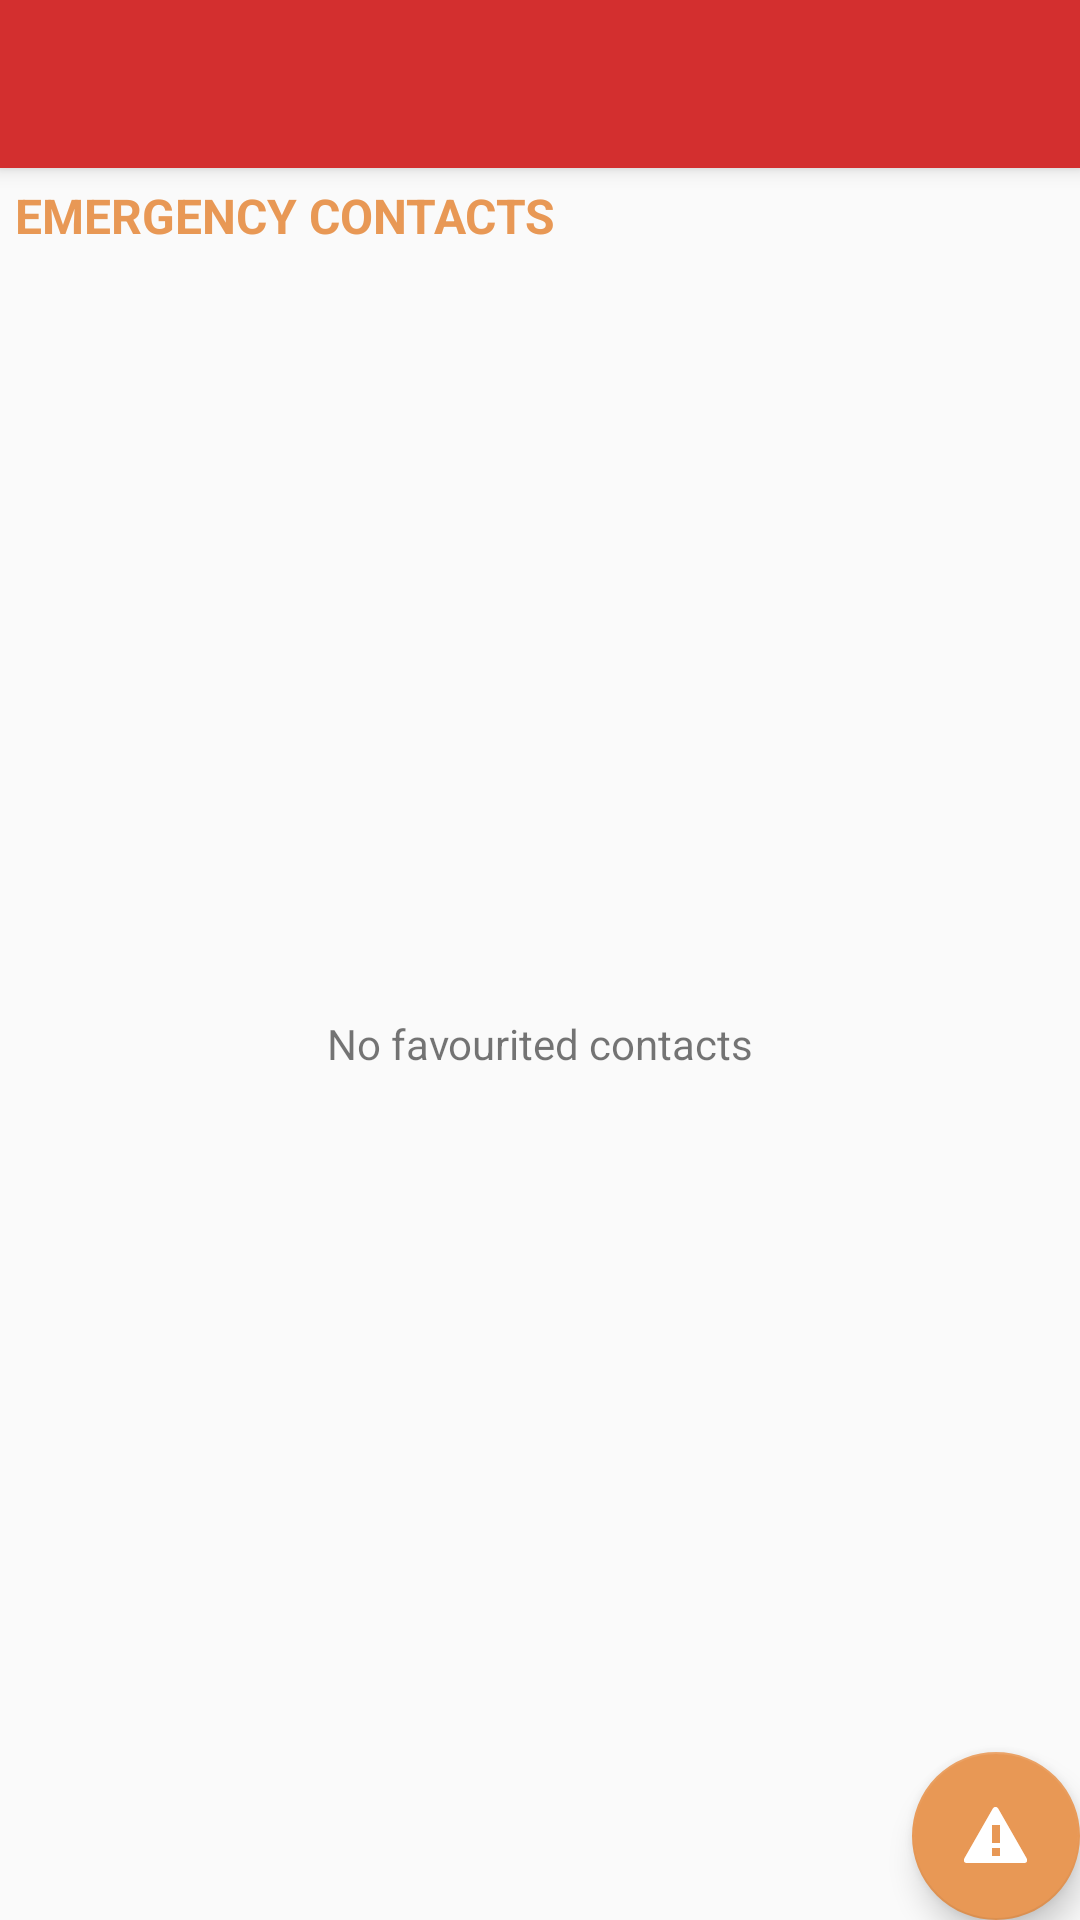

Where icons sit on this 1080*1920 app screen, as (x1, y1, x2, y2):
warning: (912, 1752, 1080, 1920)
